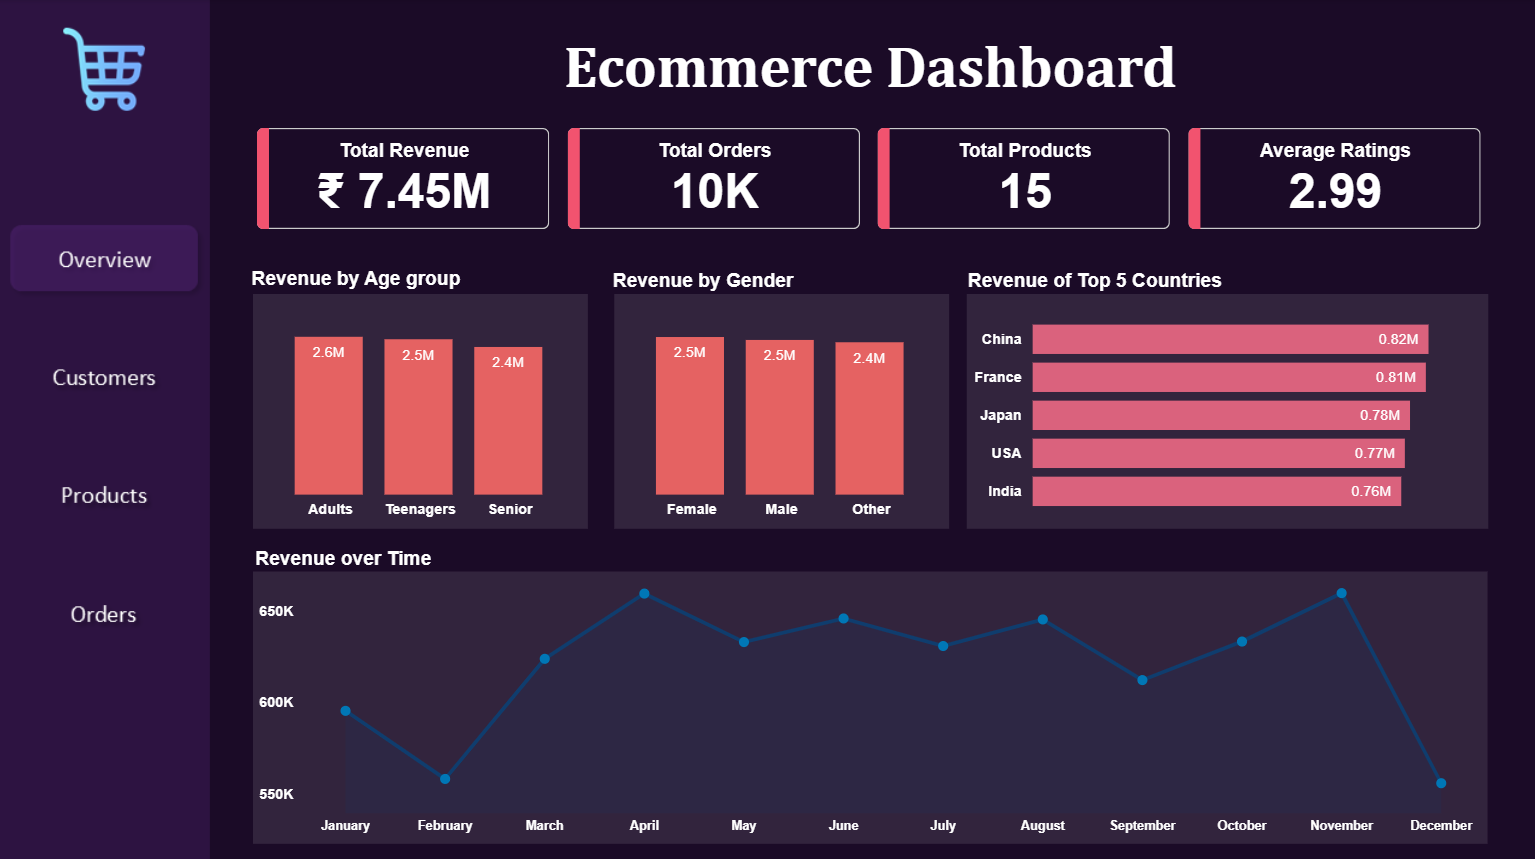

The dashboard page shown, as its layout file describes it:
{"tool":"powerbi","page":{"name":"Overall","canvas":[1280,720],"ordinal":0},"visuals":[{"type":"actionButton","box":[11.2,286.2,156.2,57.5],"z":0},{"type":"actionButton","box":[11.2,382.5,156.2,57.5],"z":1000},{"type":"actionButton","box":[11.2,482.5,156.2,57.5],"z":2000},{"type":"textbox","box":[198.8,23.3,1053.5,68.6],"z":3000},{"type":"cardVisual","fields":{"Data":["customers.Total Revenue","customers.Total Orders","customers.Total Products","customers.Average Ratings"]},"box":[198.8,90.7,1053.5,118.6],"z":4000},{"type":"lineChart","fields":{"Category":["customers.order_date.Variation.Date Hierarchy.Month"],"Y":["customers.Total Revenue"]},"box":[212.5,476.2,1026.2,226.2],"z":5000},{"type":"textbox","box":[208.8,451.2,316.2,35],"z":6000},{"type":"clusteredColumnChart","fields":{"Category":["customers.age_group"],"Y":["customers.Total Revenue"]},"box":[212.5,245,278.8,195],"z":7000},{"type":"clusteredColumnChart","fields":{"Category":["customers.gender"],"Y":["customers.Total Revenue"]},"box":[512.5,245,278.8,195],"z":8000},{"type":"textbox","box":[206.2,218.8,316.2,35],"z":9000},{"type":"textbox","box":[506.2,220,316.2,35],"z":10000},{"type":"barChart","fields":{"Category":["customers.country"],"Y":["customers.Total Revenue"]},"box":[805,245,433.8,195],"z":11000},{"type":"textbox","box":[801.2,220,316.2,35],"z":12000}]}

Visuals, with their boxes in screenshot pixels (x1, y1, x2, y2), scaled from the page's 1280x720 canvas onto the 1535x859 screenshot:
actionButton: Rect(13, 341, 201, 410)
actionButton: Rect(13, 456, 201, 525)
actionButton: Rect(13, 576, 201, 644)
textbox: Rect(238, 28, 1502, 110)
cardVisual - customers.Total Revenue x customers.Total Orders: Rect(238, 108, 1502, 250)
lineChart - customers.order_date.Variation.Date Hierarchy.Month x customers.Total Revenue: Rect(255, 568, 1485, 838)
textbox: Rect(250, 538, 630, 580)
clusteredColumnChart - customers.age_group x customers.Total Revenue: Rect(255, 292, 589, 525)
clusteredColumnChart - customers.gender x customers.Total Revenue: Rect(615, 292, 949, 525)
textbox: Rect(247, 261, 626, 303)
textbox: Rect(607, 262, 986, 304)
barChart - customers.country x customers.Total Revenue: Rect(965, 292, 1486, 525)
textbox: Rect(961, 262, 1340, 304)
